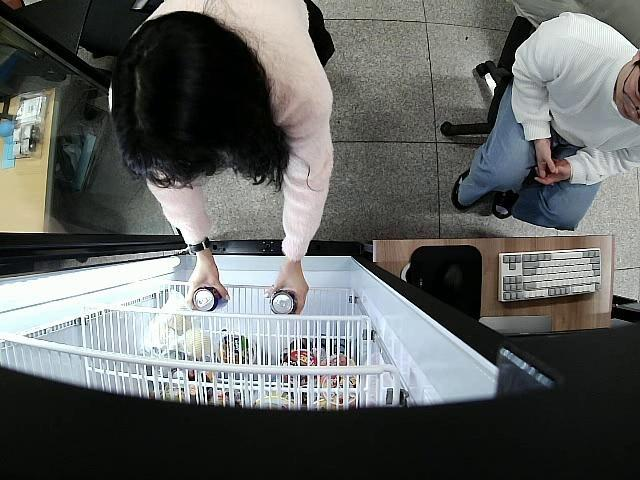14_welchsGrape: (190, 286, 230, 311), (269, 290, 298, 316)
